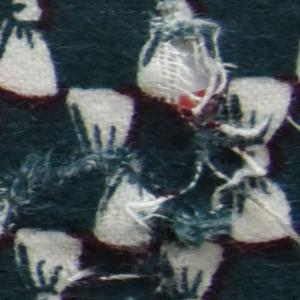Damage: (1, 142, 300, 300), (143, 1, 242, 147)
